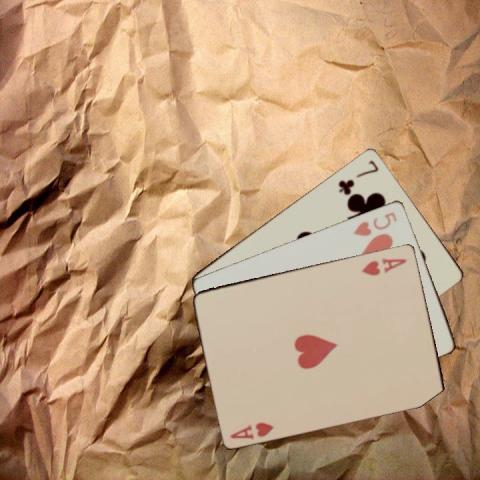5h: (350, 209, 399, 237)
7c: (335, 156, 380, 194)
Ah: (359, 254, 408, 277), (228, 418, 276, 440)
